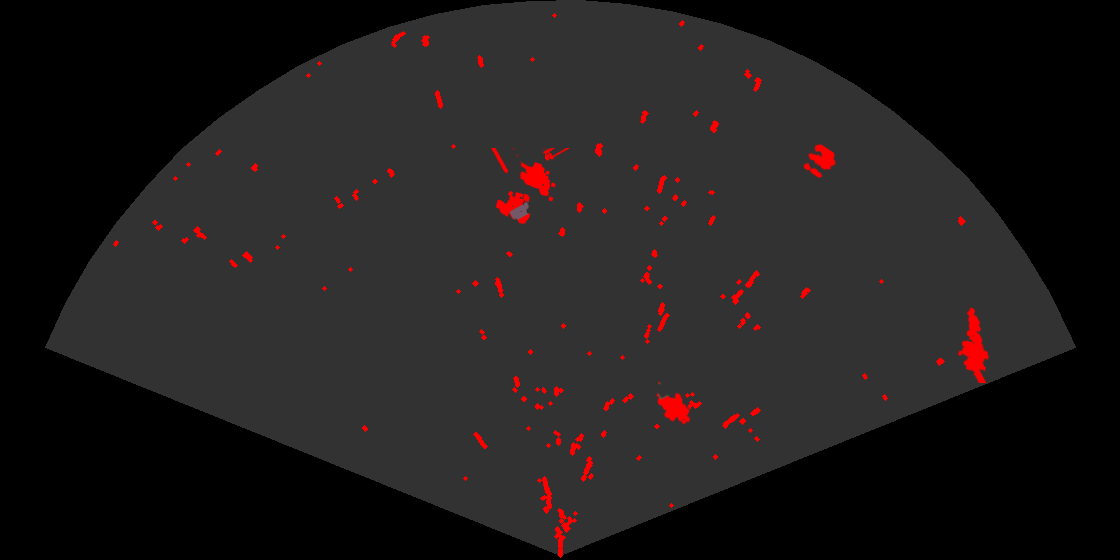AUV: (655, 380, 692, 426)
ball: (802, 142, 837, 180)
cage: (490, 148, 571, 226)
frogman: (956, 306, 991, 383)
